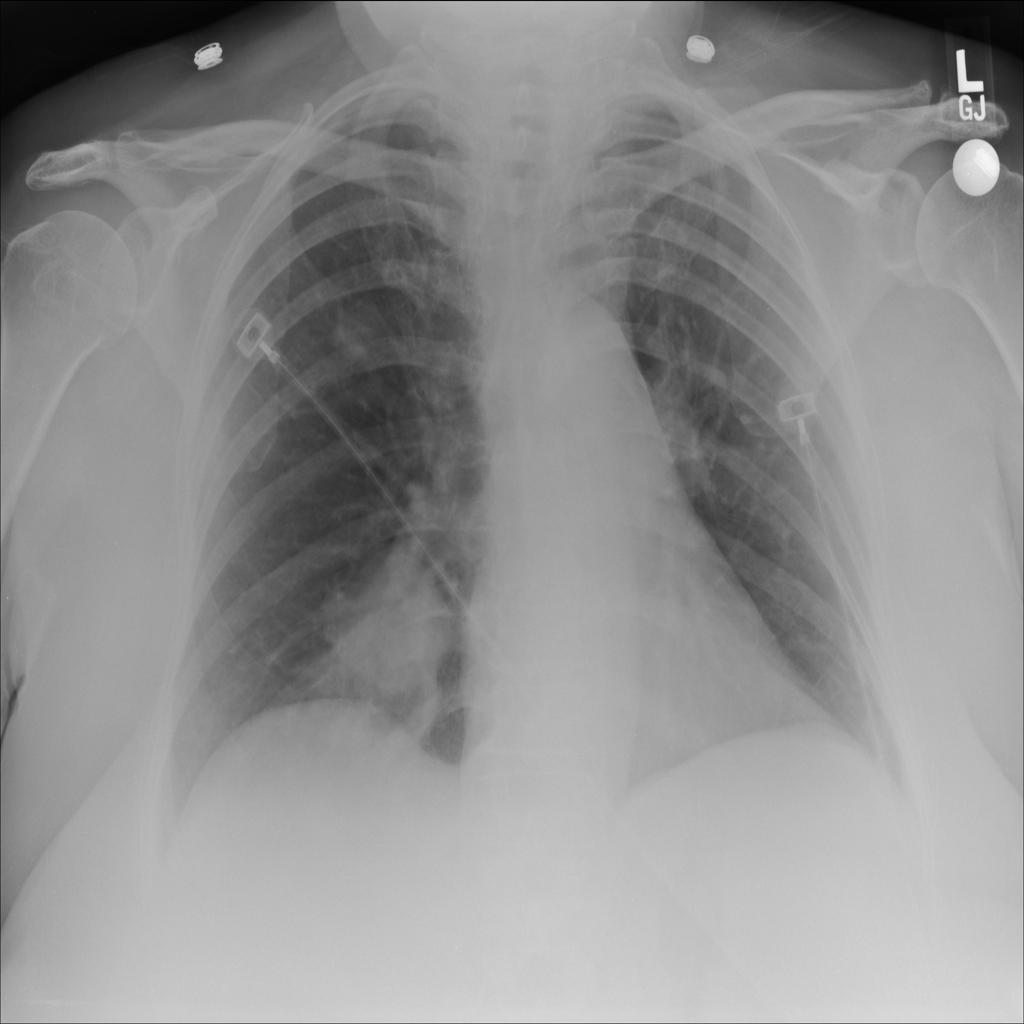nodule: (308, 539, 468, 721), (326, 288, 396, 376)
